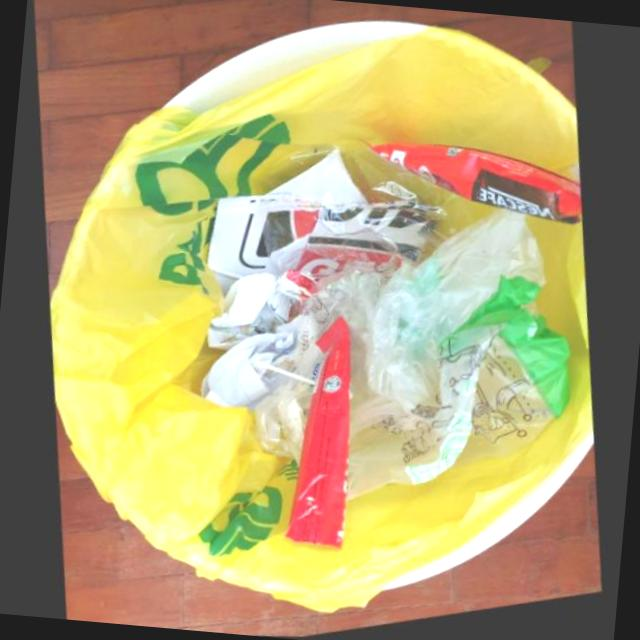bao_bi_thuc_pham: (283, 322, 348, 556)
giay: (197, 336, 291, 411), (203, 277, 280, 354)
goi_nhua_nho: (358, 146, 577, 233)
tui_ni_long: (343, 217, 572, 509), (247, 276, 381, 468)
